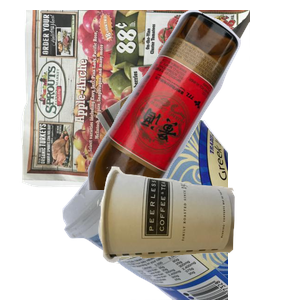glass: (85, 10, 300, 190)
paper: (18, 10, 258, 190)
plastic: (60, 120, 300, 300)
trash: (95, 164, 300, 300)
